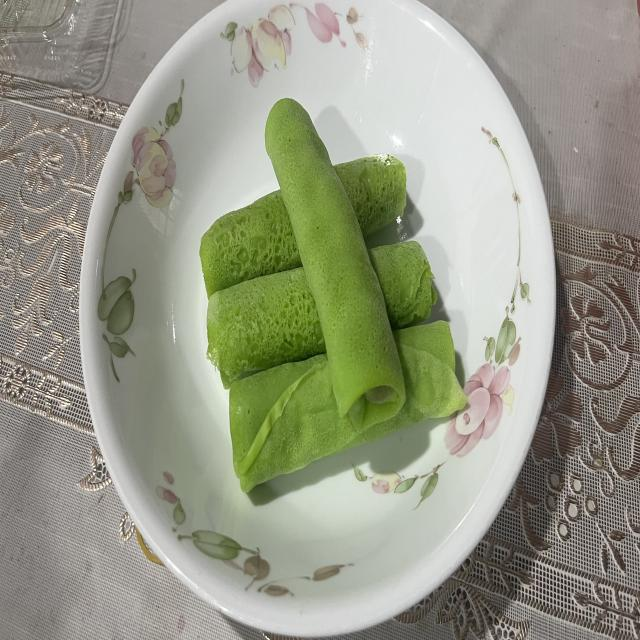Kuih-Ketayap: (265, 98, 405, 429), (230, 322, 466, 493), (206, 267, 325, 389), (200, 191, 301, 298), (369, 240, 436, 329), (335, 156, 406, 236)
